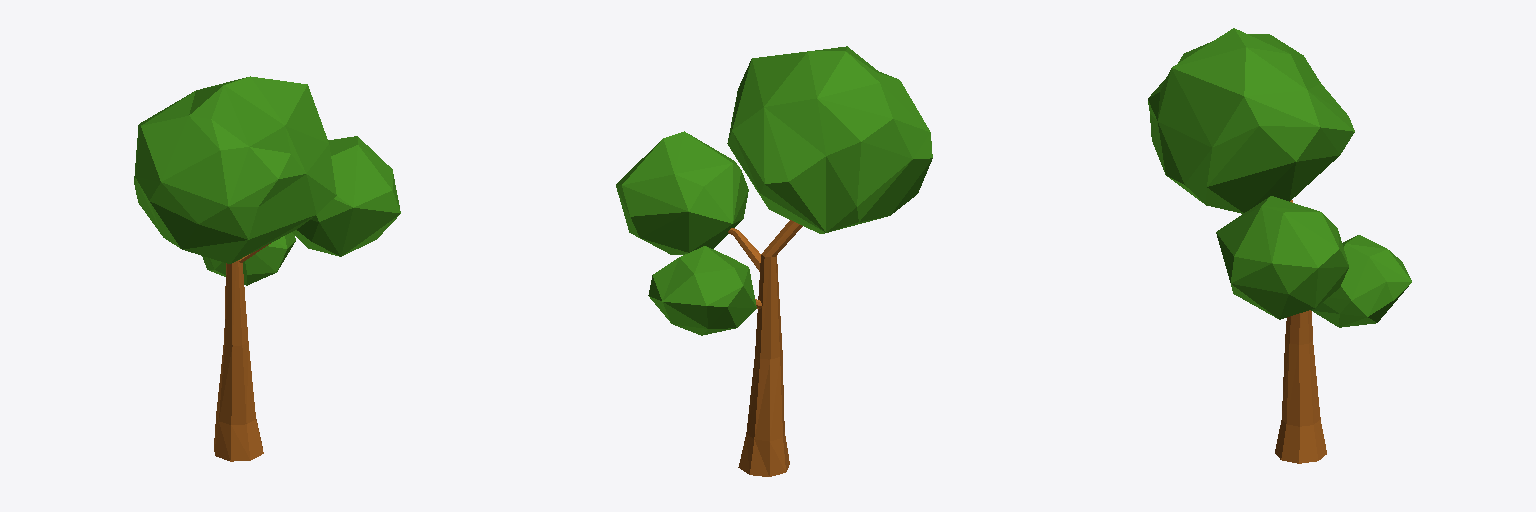
File: tree_1.obj
3 renders of one model, left to right at view 1: azimuth 30°, elevation 25°; view 2: azimuth 150°, elevation 25°; view 3: azimuth 270°, elevation 25°, orthographic.
Parts seen in each view (by area): view 1: Tree1; view 2: Tree1; view 3: Tree1.
Part boxes in pixels (bbox=[...]): Tree1: bbox=[134, 76, 400, 461]; Tree1: bbox=[616, 46, 932, 476]; Tree1: bbox=[1148, 28, 1411, 463].
Bounding box in the file's own units: 3.6 × 5.09 × 3.04.